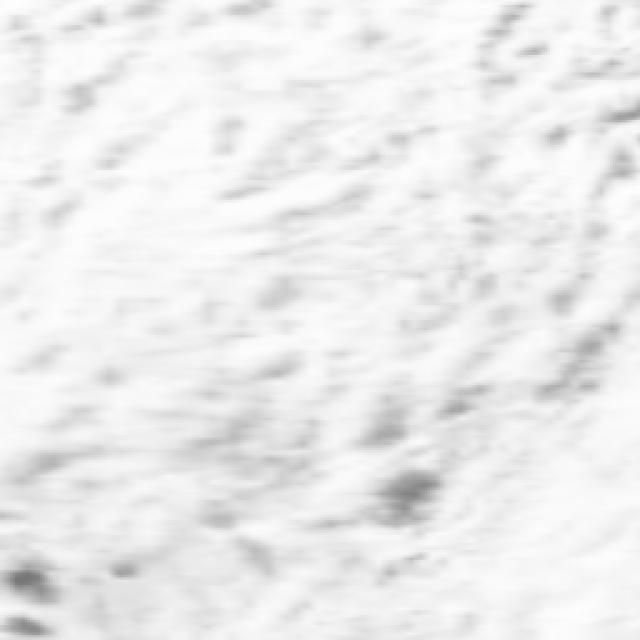CB: (41, 127, 280, 338), (495, 432, 640, 640)
